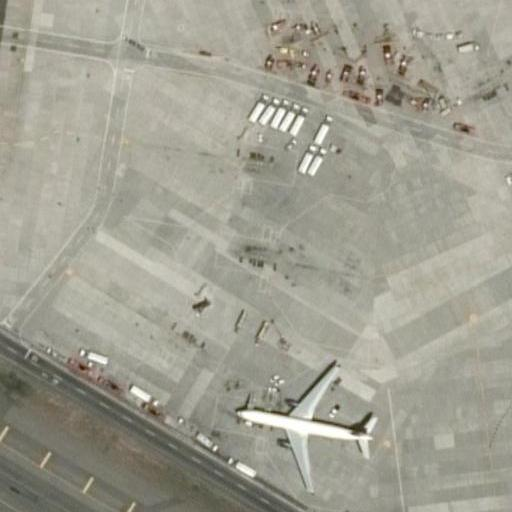Aircraft: (225, 357, 380, 486)
